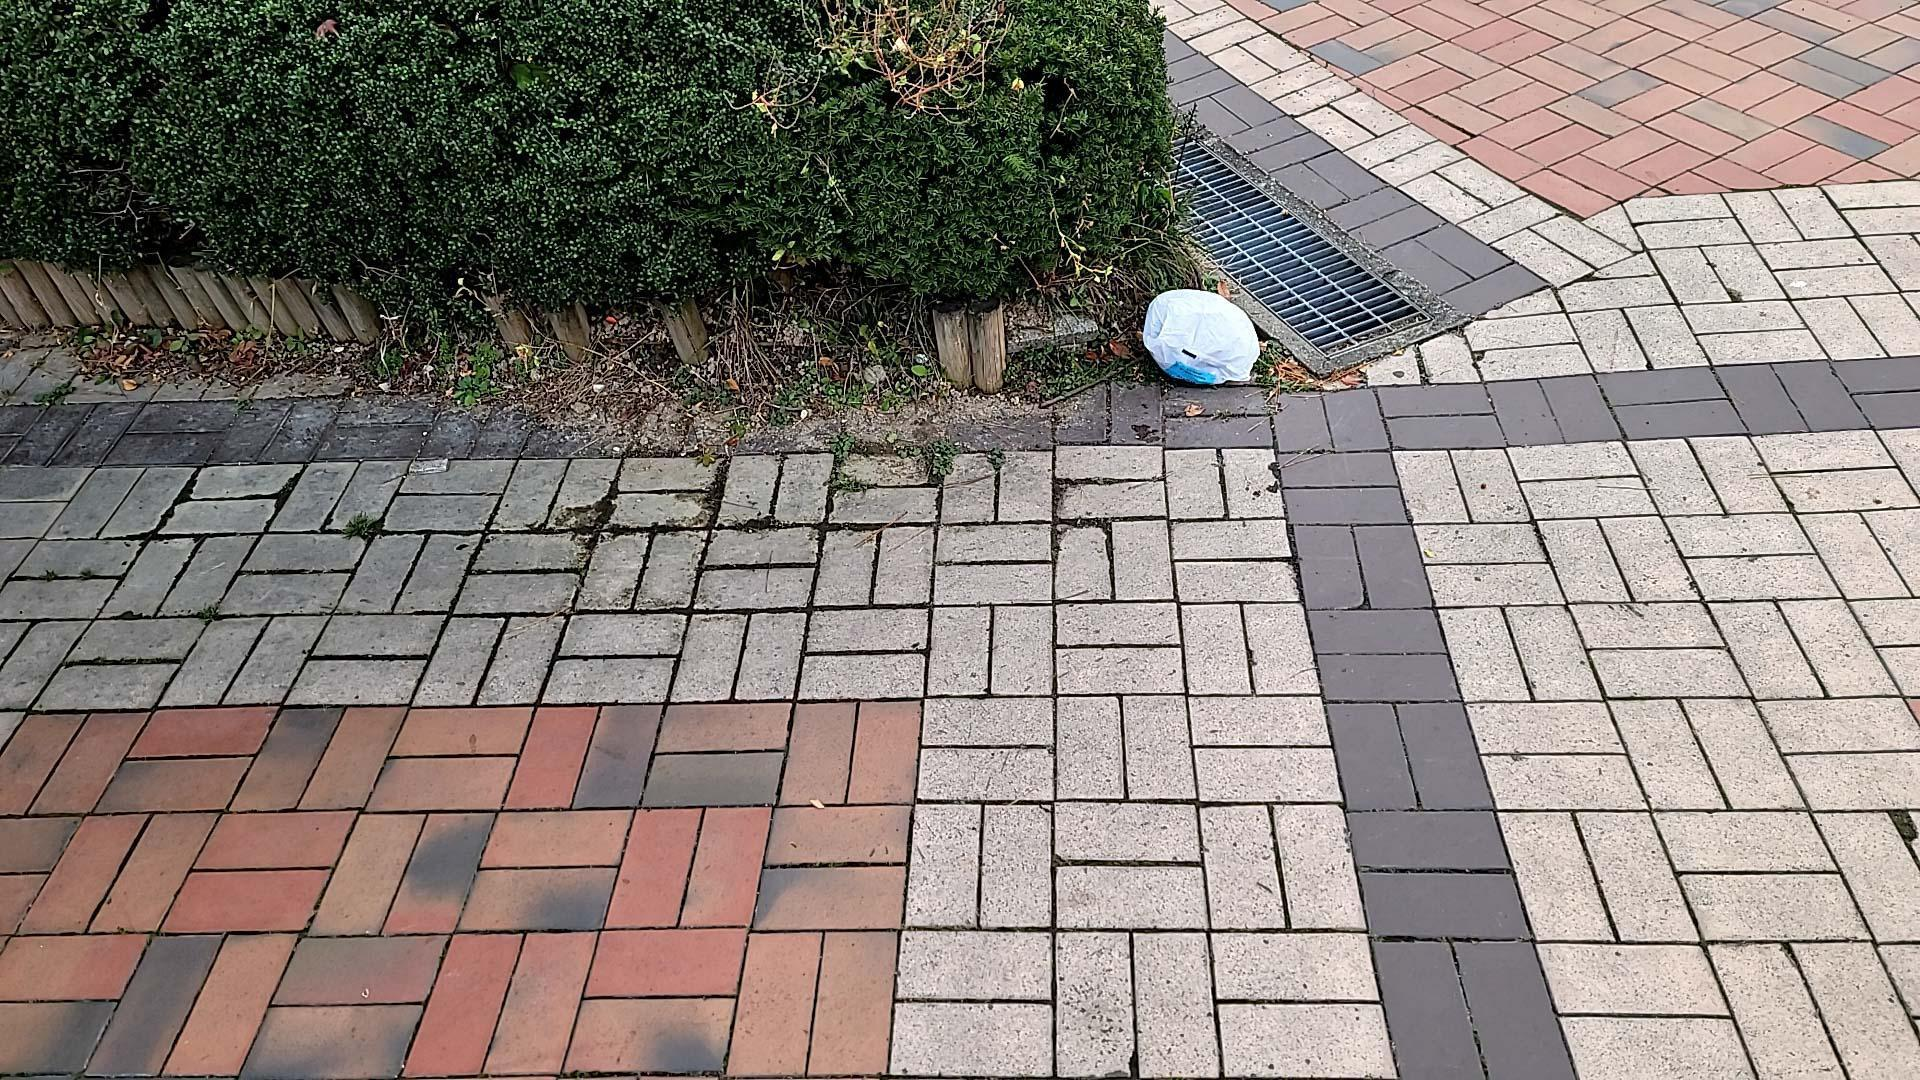white_bag: (1134, 280, 1276, 393)
